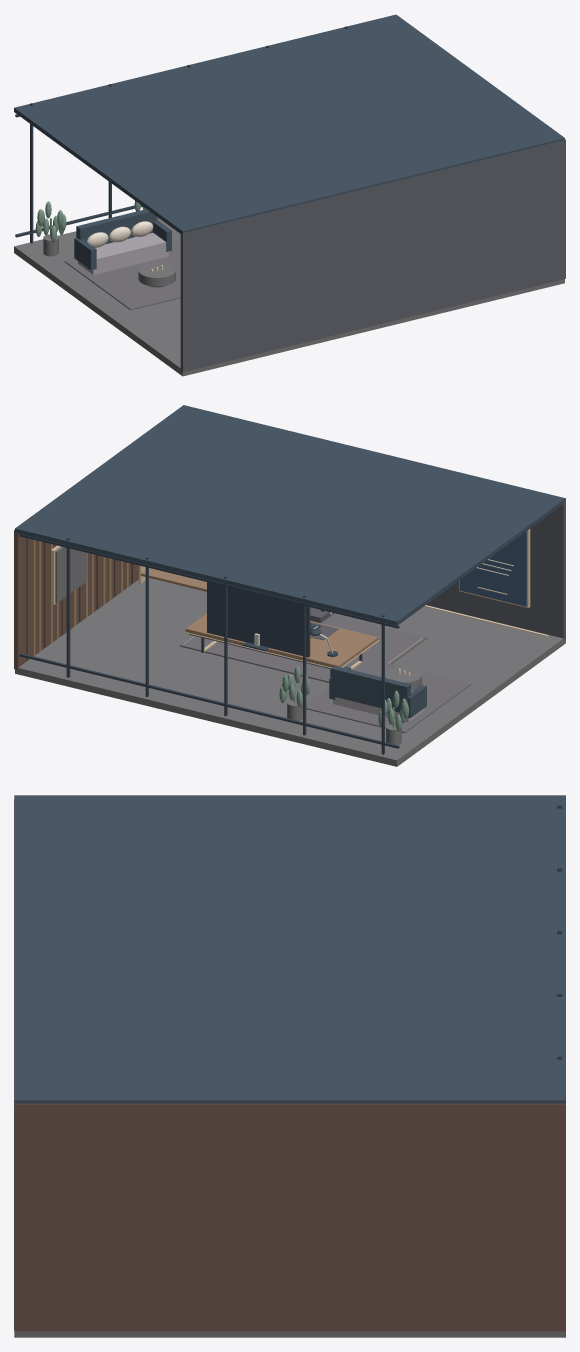
The model's file is studio.glb.
3 renders of one model, top to bottom at view 1: azimuth 30°, elevation 25°; view 2: azimuth 150°, elevation 25°; view 3: azimuth 270°, elevation 25°, orthographic. The views are drawn at different scales.
Visible parts, largest first — view 1: architecture_ceiling_002, architecture_backWall_004, architecture_floor_001, lounge_rug_160, lounge_sofaSeat_161, lounge_sofaBack_162, lounge_CoffeeTable_168, lounge_sofaArm_163, window_mullion_030; view 2: architecture_ceiling_002, architecture_floor_001, architecture_backWall_004, architecture_rightWall_003, analyticsMonitor_Back_086, workRug_074, lounge_rug_160, experienceFrame_Display_043, desk_walnutTop_078, lounge_sofaBack_162, window_rail_035, wall_art_stone_251 (+12 smaller); view 3: architecture_ceiling_002, architecture_rightWall_003, architecture_floor_001.
Boxes of the visible parts, <box> form: architecture_ceiling_002: <box>14,14,564,234</box>; architecture_backWall_004: <box>180,140,565,372</box>; architecture_floor_001: <box>14,217,564,376</box>; lounge_rug_160: <box>64,239,180,310</box>; lounge_sofaSeat_161: <box>78,233,168,274</box>; lounge_sofaBack_162: <box>76,209,156,244</box>; lounge_CoffeeTable_168: <box>138,262,175,286</box>; lounge_sofaArm_163: <box>74,237,96,270</box>; window_mullion_030: <box>30,103,33,243</box>; architecture_ceiling_002: <box>15,405,565,625</box>; architecture_floor_001: <box>15,578,565,766</box>; architecture_backWall_004: <box>426,500,565,640</box>; architecture_rightWall_003: <box>14,530,138,669</box>; analyticsMonitor_Back_086: <box>207,582,310,657</box>; workRug_074: <box>179,614,427,682</box>; lounge_rug_160: <box>302,658,471,733</box>; experienceFrame_Display_043: <box>460,531,526,606</box>; desk_walnutTop_078: <box>185,613,377,667</box>; lounge_sofaBack_162: <box>331,666,410,712</box>; window_rail_035: <box>19,653,399,748</box>; wall_art_stone_251: <box>55,546,87,603</box>; architecture_ceiling_002: <box>14,795,565,1103</box>; architecture_rightWall_003: <box>14,1103,565,1331</box>; architecture_floor_001: <box>14,1331,565,1337</box>.
Bounding box in the file's own units: 17.04 × 6.23 × 13.01.
